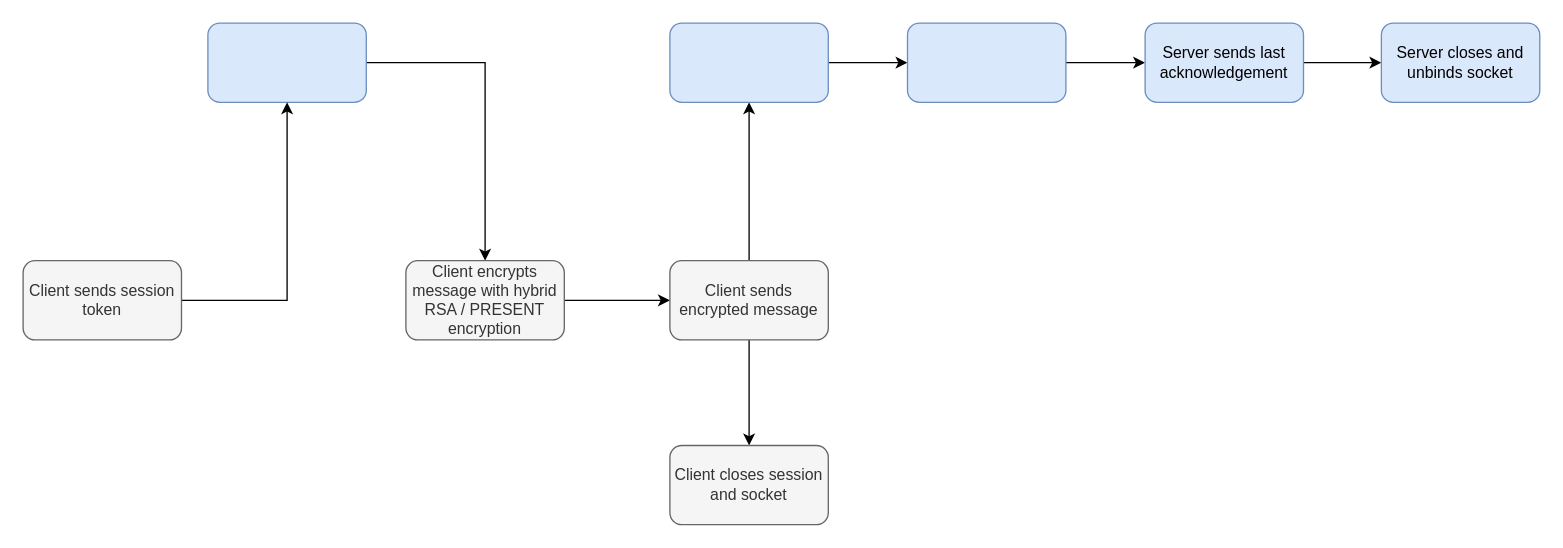
Image size: 1563x548. Some labels were removed from this diagram. Here are the shapes that lost their labels. From the top down, the centre of each, then its label:
At [286,62]: "Server receives token and acknowledges".
At [748,62]: "Server receives message".
At [986,62]: "Server decrypts message".
